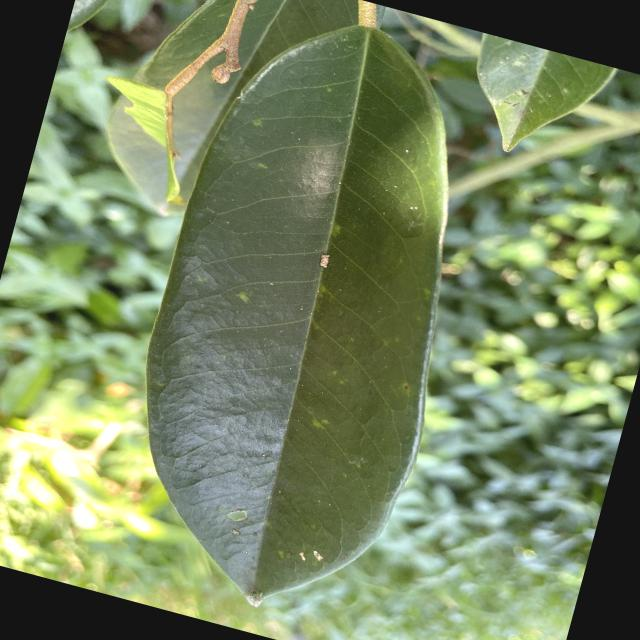No Disease: (73, 0, 540, 639)
